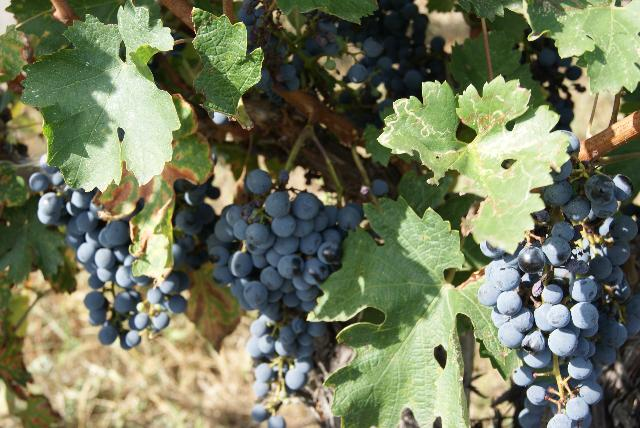grapes: (478, 159, 640, 428), (206, 169, 364, 428), (29, 156, 208, 350)
